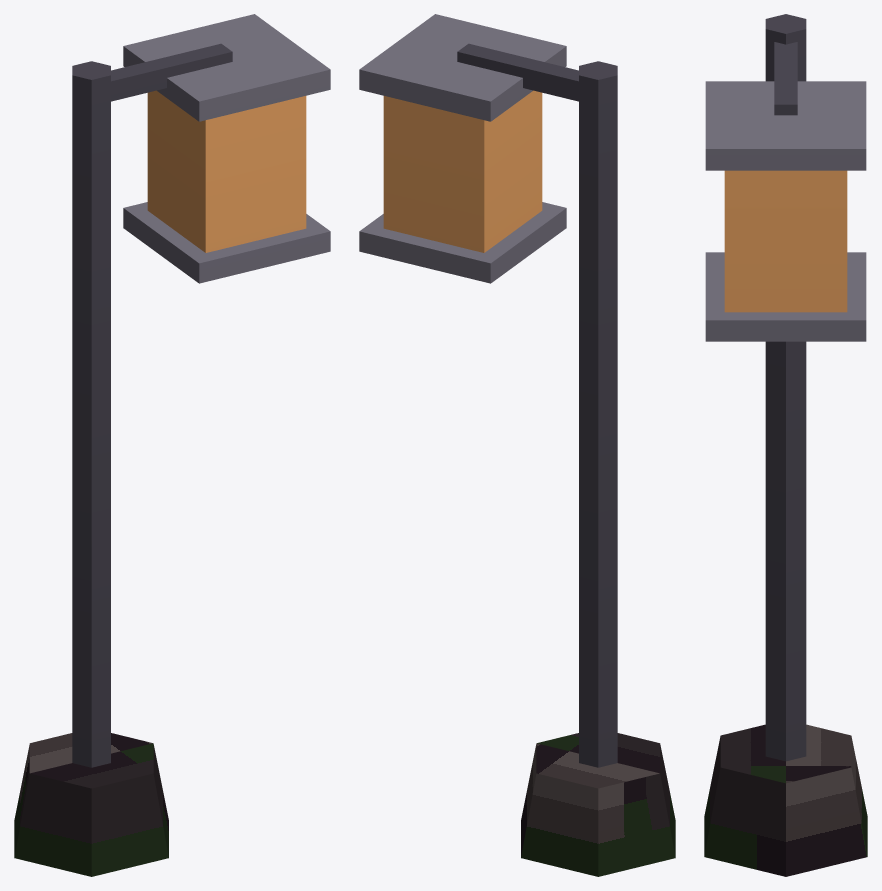
The model's file is warm_lantern.glb.
3 renders of one model, left to right at view 1: azimuth 30°, elevation 25°; view 2: azimuth 150°, elevation 25°; view 3: azimuth 270°, elevation 25°, orthographic. The views are drawn at different scales.
Visible parts, largest first — view 1: warm_lantern; view 2: warm_lantern; view 3: warm_lantern.
Boxes of the visible parts, x1,y1,x2,y2 form: warm_lantern: (14,14,330,876); warm_lantern: (359,14,675,876); warm_lantern: (704,14,867,876).
Bounding box in the file's own units: 0.72 × 1.9 × 0.3464.
Materials: 3 (1 with a texture image).
